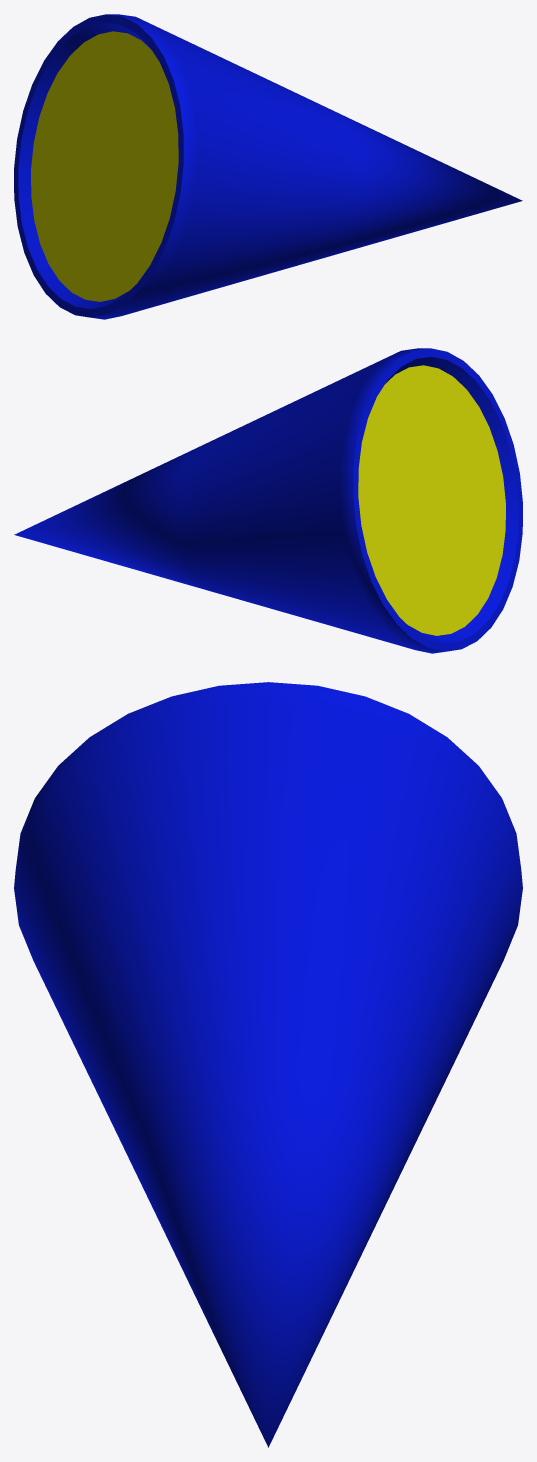
The model's file is IceCreamCone.fbx.
3 views of the same model, one above another, from view 1: azimuth 30°, elevation 25°; view 2: azimuth 150°, elevation 25°; view 3: azimuth 270°, elevation 25° (orthographic). The views are drawn at different scales.
Visible parts, largest first — view 1: IcecreamCone; view 2: IcecreamCone; view 3: IcecreamCone.
Boxes of the visible parts, box(x1,y1,x2,y2) form: IcecreamCone: box(14, 14, 522, 319); IcecreamCone: box(14, 348, 522, 653); IcecreamCone: box(14, 682, 522, 1447).
Size of the model in its own units: 330 by 184 by 188.
